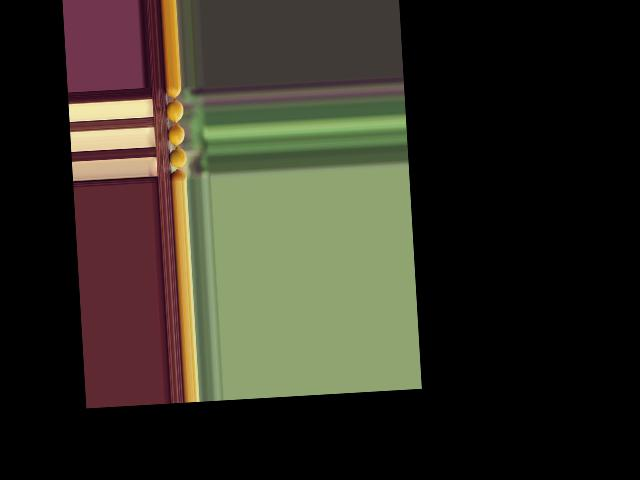lemon: (165, 86, 182, 98)
